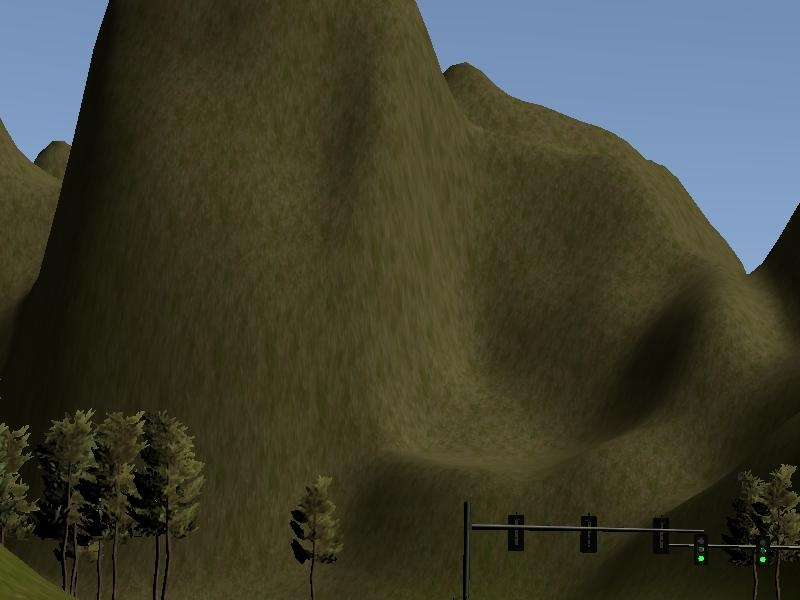GREEN: (693, 532, 710, 565), (754, 534, 771, 567)
